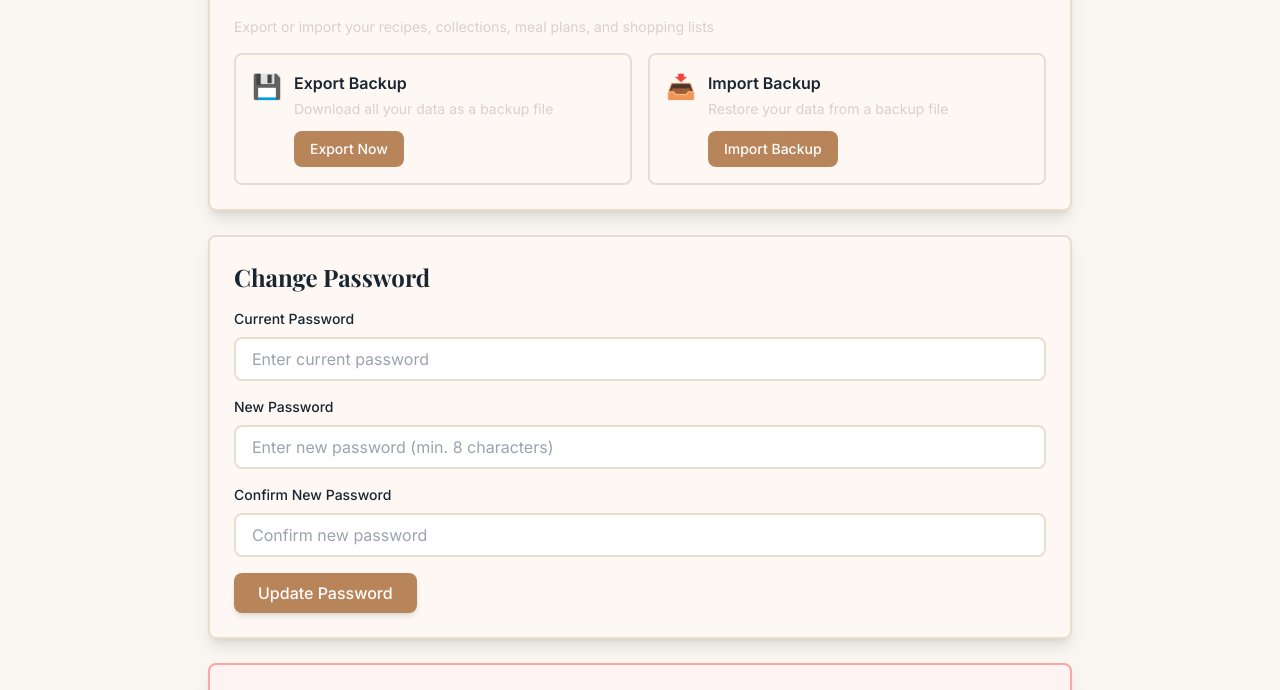
Scenario: AccountSettingsPage › validates new password is different
(page scrolled)
Type "samepass123" into the password field labelled "Current Password" at (640, 359), box [234,337,1046,381]
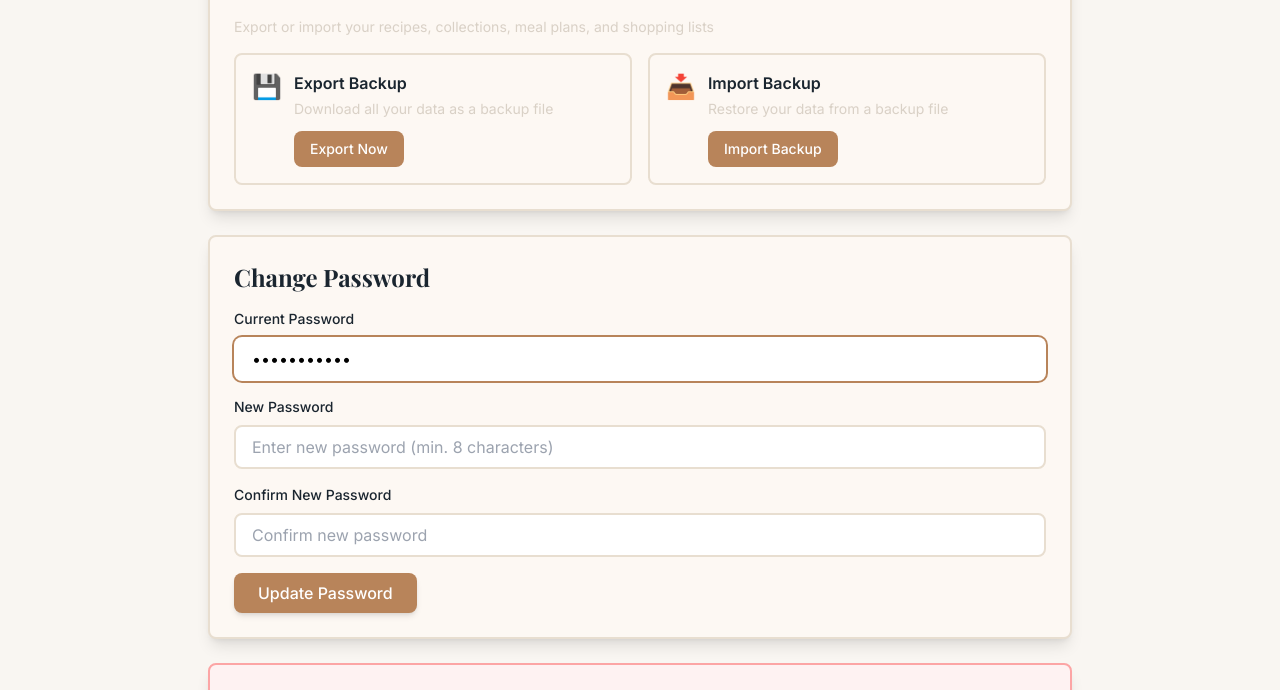
Type "samepass123" into the password field labelled "New Password" at (640, 447), box [234,425,1046,469]
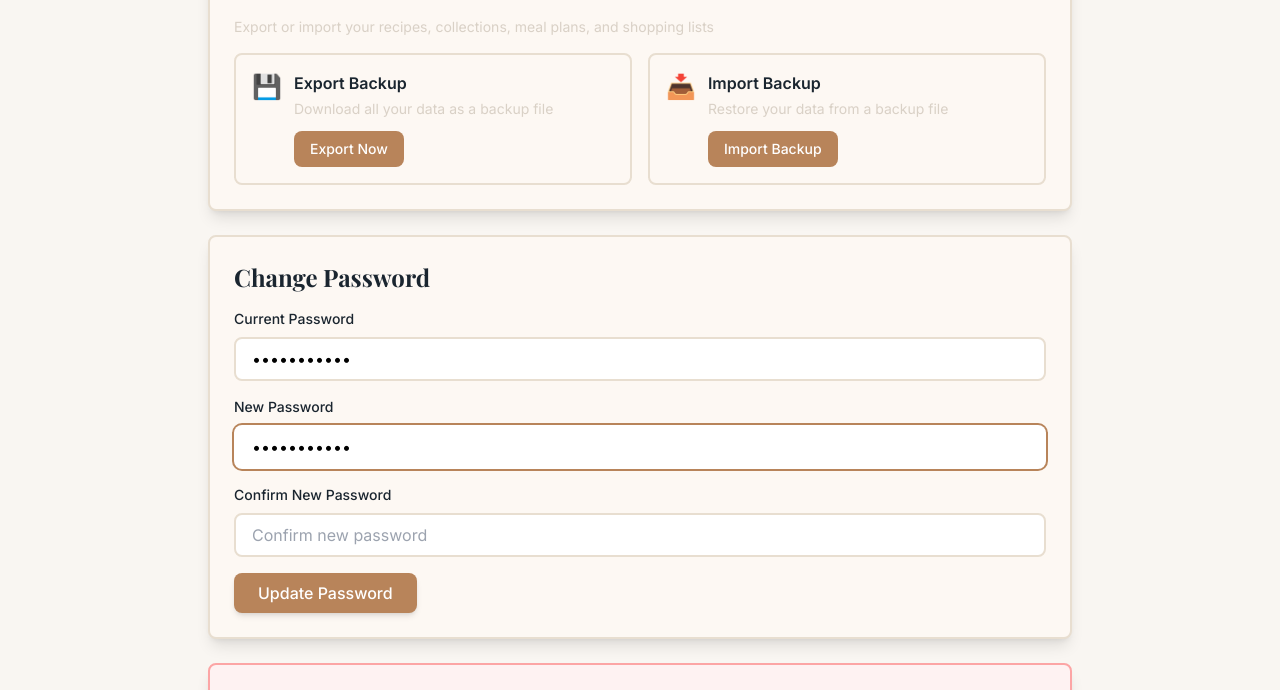
Type "samepass123" into the password field labelled "Confirm New Password" at (640, 535), box [234,513,1046,557]
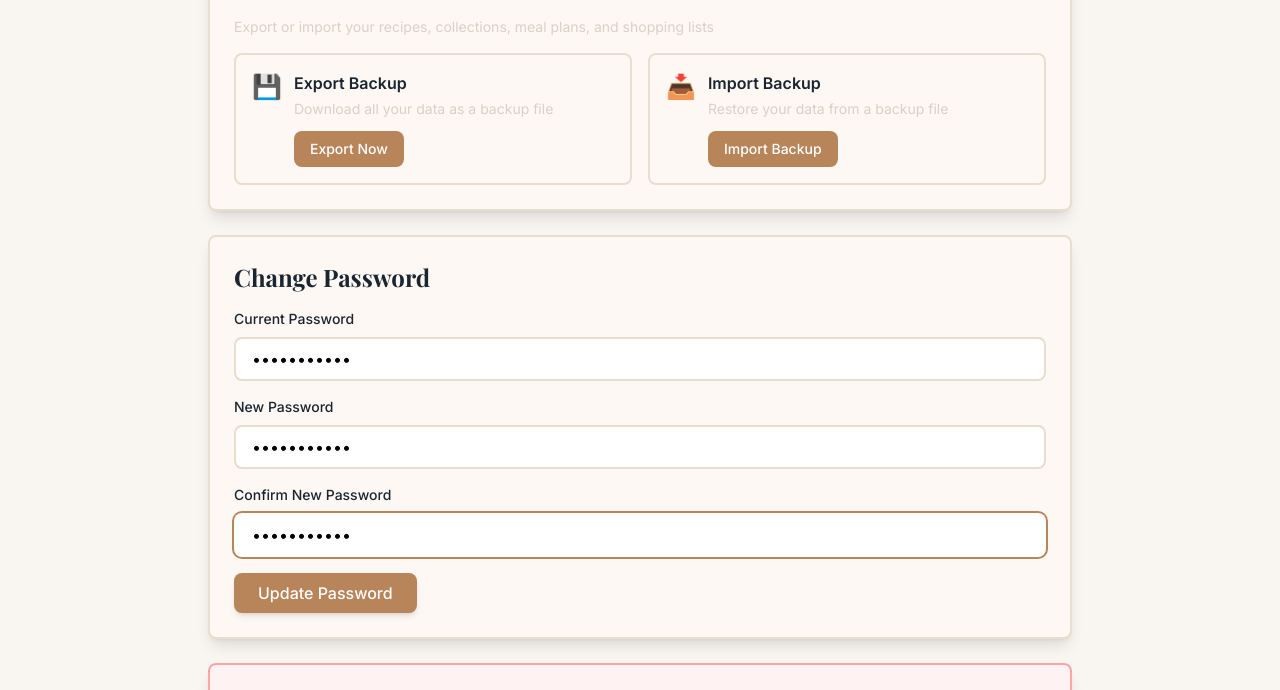
Click the button "Update Password" at (325, 593), box [234,573,417,613]
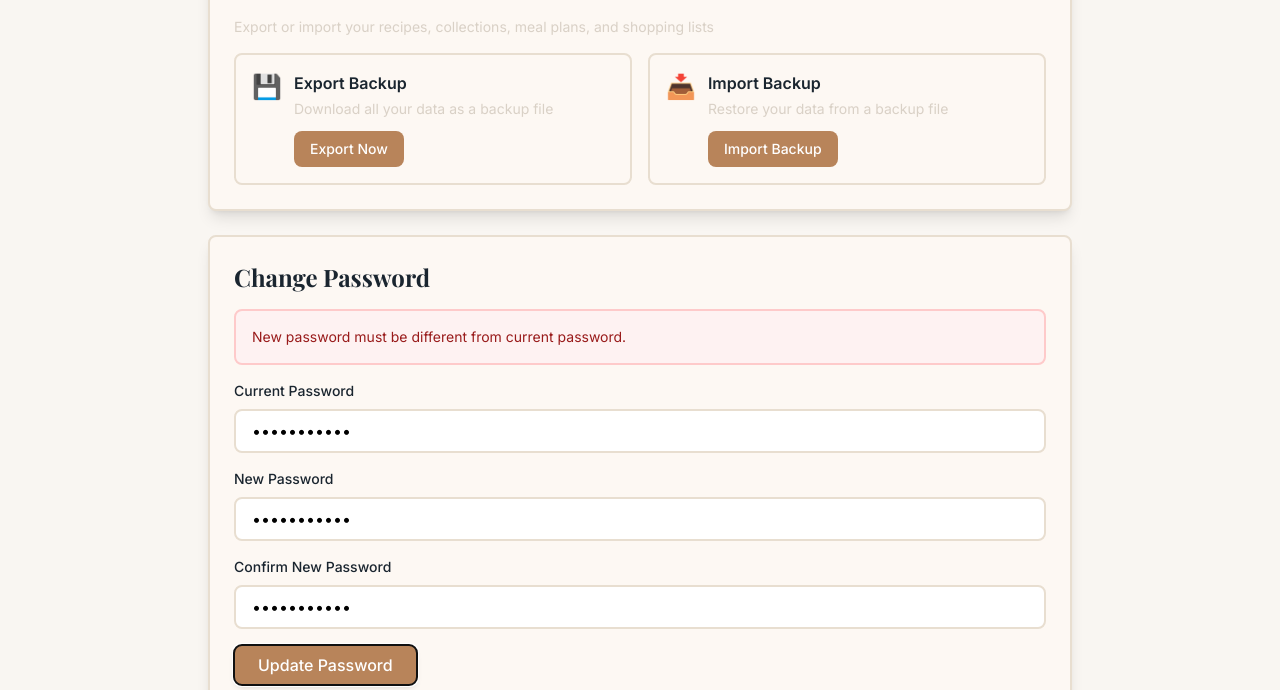
Expected: the text "New password must be different from current password." is shown, [252,328,626,345]
